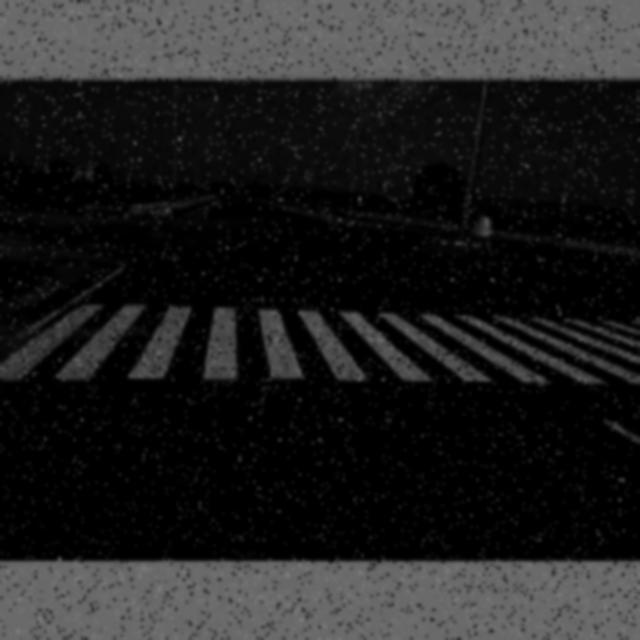crosswalk: (1, 303, 640, 380)
